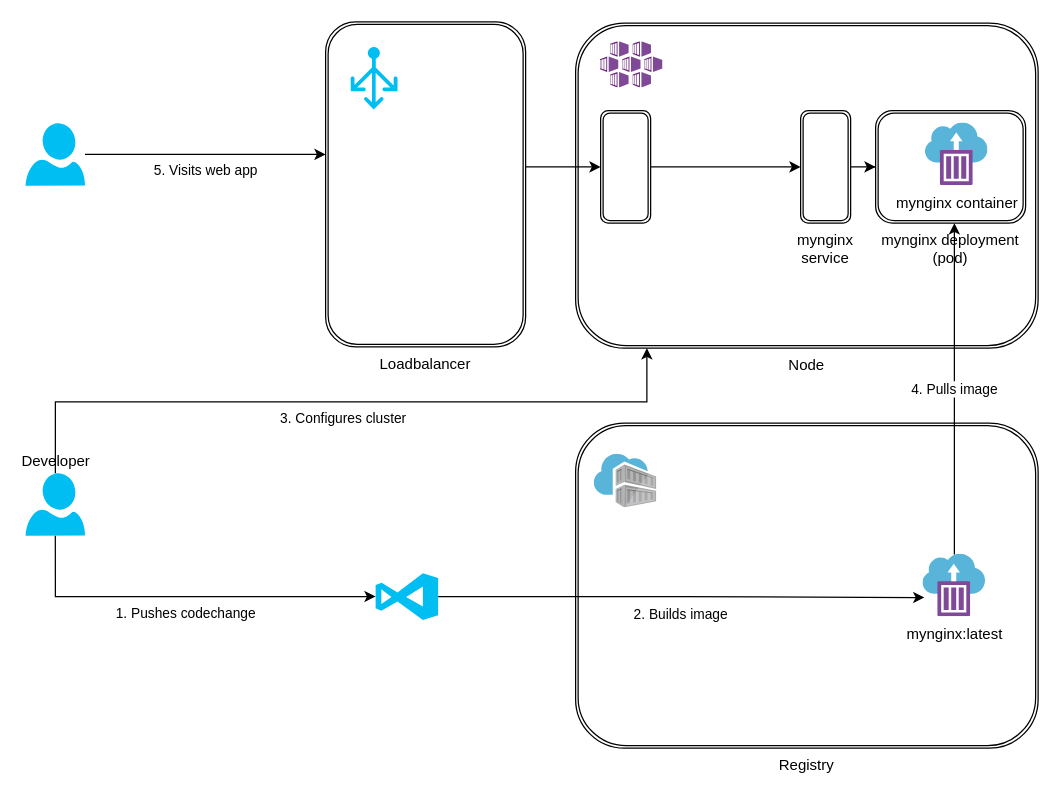
The diagram is 1061 pixels wide and 796 high, and some of its shapes have lost their labels. Each missing label, with the centre of its shape:
"mynginx ingress" belongs at (x=625, y=166).
"User" belongs at (x=54, y=153).
